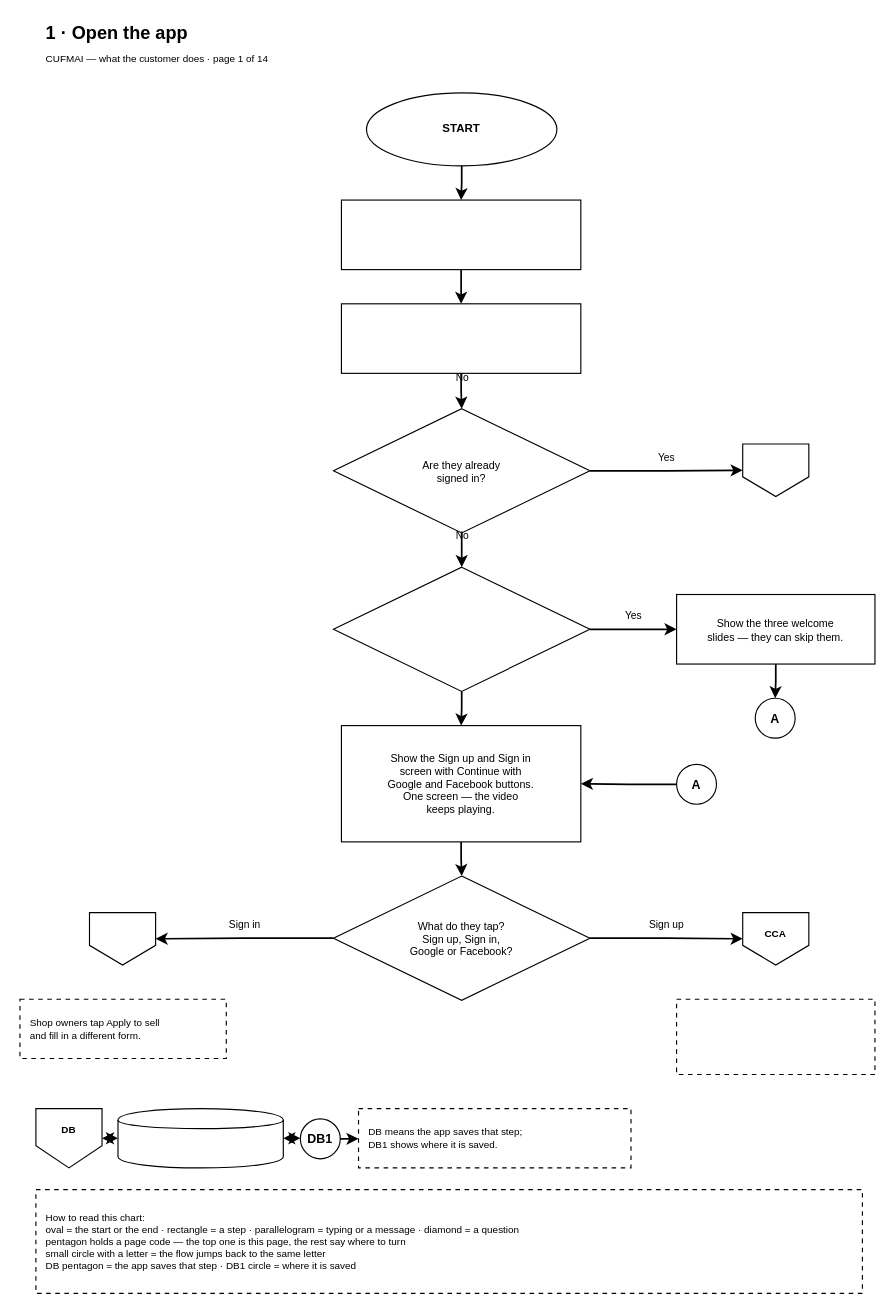
Image size: 895x1313. Some labels were removed from this diagram. Here are the shapes that lost their labels. From the top down, the box of each, then its label:
(340, 199, 581, 270): The customer opens the app on their phone.
(340, 303, 581, 373): A short loading screen checks for updates.
(742, 443, 809, 496): CHm
(332, 566, 590, 691): First time opening it?
(88, 911, 156, 965): CSI
(675, 998, 875, 1074): Sign in is a switch on the same screen — the video never restarts.
(117, 1108, 283, 1168): Database
